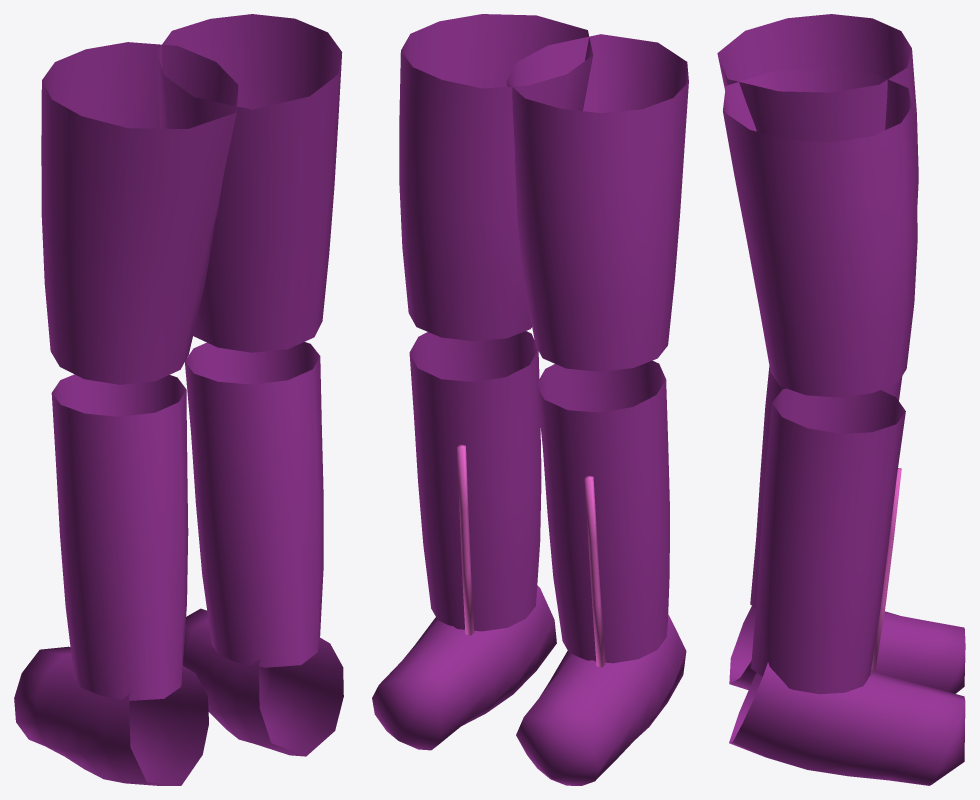
The model's file is nebula_leggings.glb.
3 views of the same model, side by side, from view 1: azimuth 30°, elevation 25°; view 2: azimuth 150°, elevation 25°; view 3: azimuth 270°, elevation 25° (orthographic). The views are drawn at different scales.
Parts seen in each view (by area): view 1: nebula_leggings_cuisse.L; view 2: nebula_leggings_cuisse.L; view 3: nebula_leggings_cuisse.L.
Boxes of the visible parts, x1,y1,x2,y2 form: nebula_leggings_cuisse.L: [14, 14, 343, 785]; nebula_leggings_cuisse.L: [372, 14, 688, 785]; nebula_leggings_cuisse.L: [717, 14, 965, 785].
Bounding box in the file's own units: 0.391 × 0.9483 × 0.3194.
